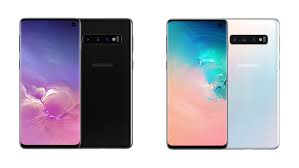samsung: (226, 17, 282, 151), (79, 17, 132, 150)
